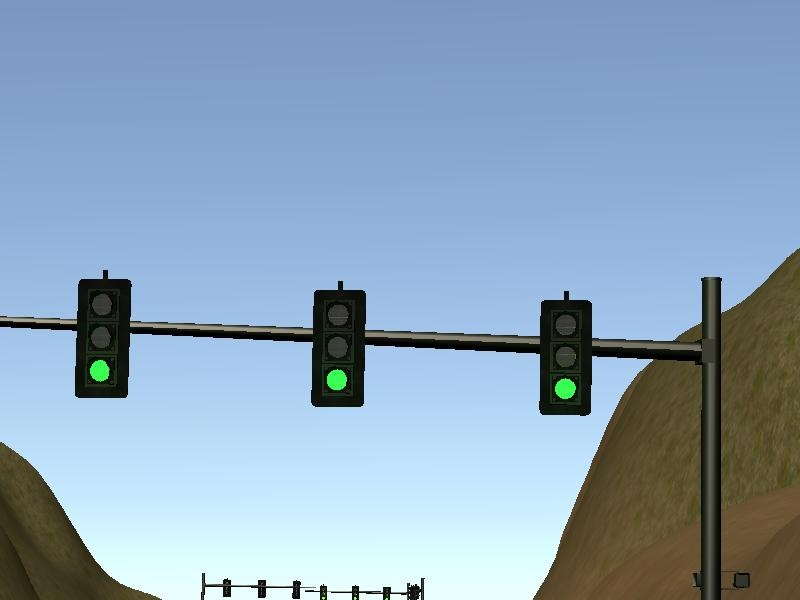green: (309, 285, 369, 412), (539, 296, 596, 420), (78, 279, 130, 399)
